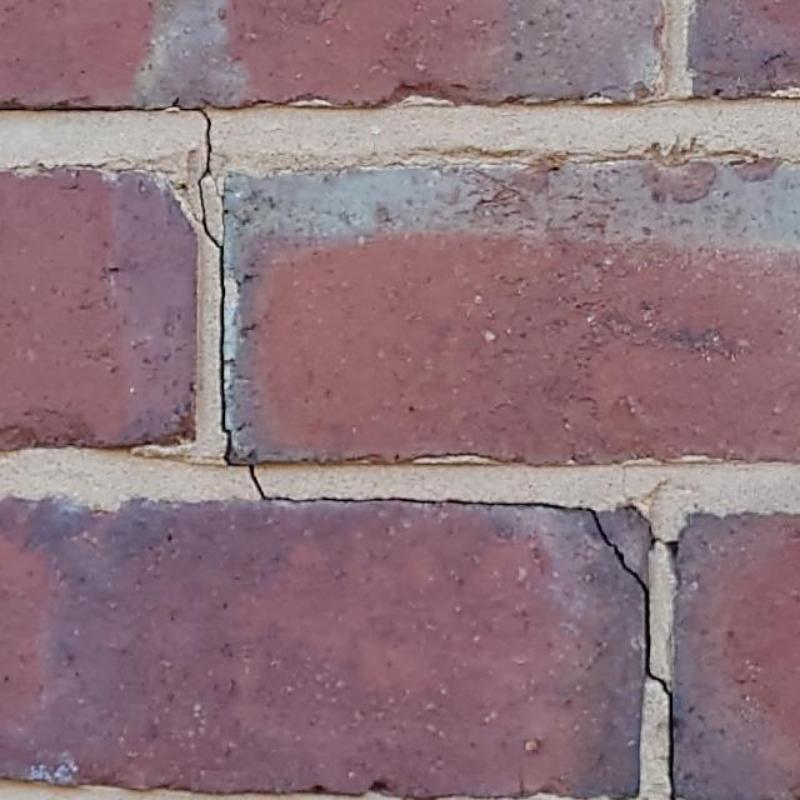pothole: (180, 109, 678, 800), (648, 523, 680, 560)
